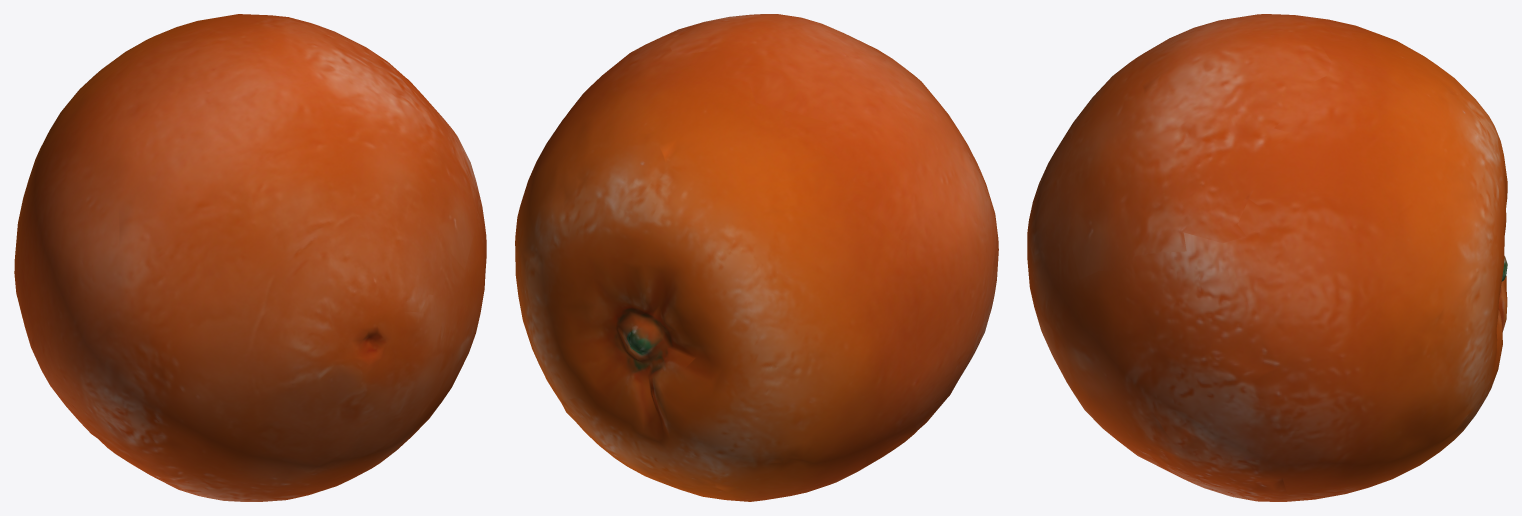
The picture shows the model from 3 angles, left to right: view 1: azimuth 30°, elevation 25°; view 2: azimuth 150°, elevation 25°; view 3: azimuth 270°, elevation 25°; orthographic projection. The views are drawn at different scales.
Parts seen in each view (by area): view 1: textured.030; view 2: textured.030; view 3: textured.030.
Boxes of the visible parts, <box> form: textured.030: <box>14,14,486,501</box>; textured.030: <box>515,14,998,501</box>; textured.030: <box>1027,14,1507,501</box>.
Size of the model in its own units: 0.0721 by 0.074 by 0.0714.
Materials: 1 (1 with a texture image).
